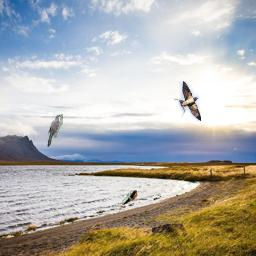Cuckoo: (47, 114, 63, 147)
Swallow: (174, 81, 201, 121), (122, 190, 138, 205)
